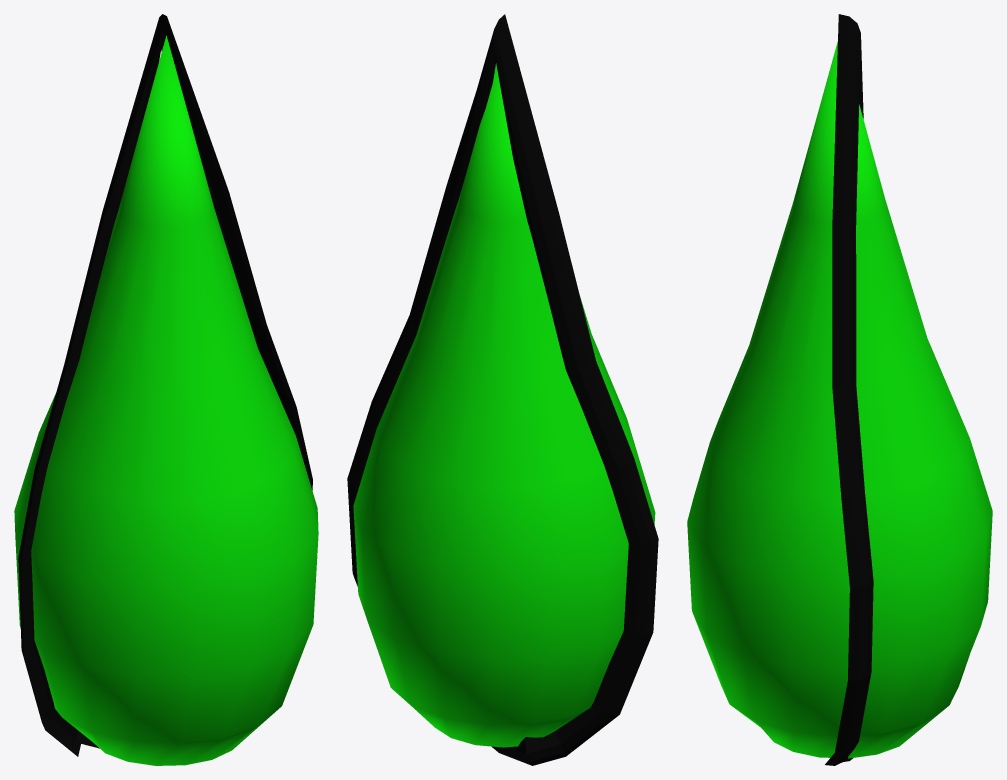
Rendered from Fighter (2) 3.fbx.
3 renders of one model, left to right at view 1: azimuth 30°, elevation 25°; view 2: azimuth 150°, elevation 25°; view 3: azimuth 270°, elevation 25°, orthographic. The views are drawn at different scales.
Visible parts, largest first — view 1: LineArt.004; view 2: LineArt.004; view 3: LineArt.004.
Boxes of the visible parts, x1,y1,x2,y2 form: LineArt.004: (14, 14, 318, 765); LineArt.004: (347, 14, 658, 765); LineArt.004: (687, 14, 992, 765).
Size of the model in its own units: 10.19 by 24.17 by 8.96.
